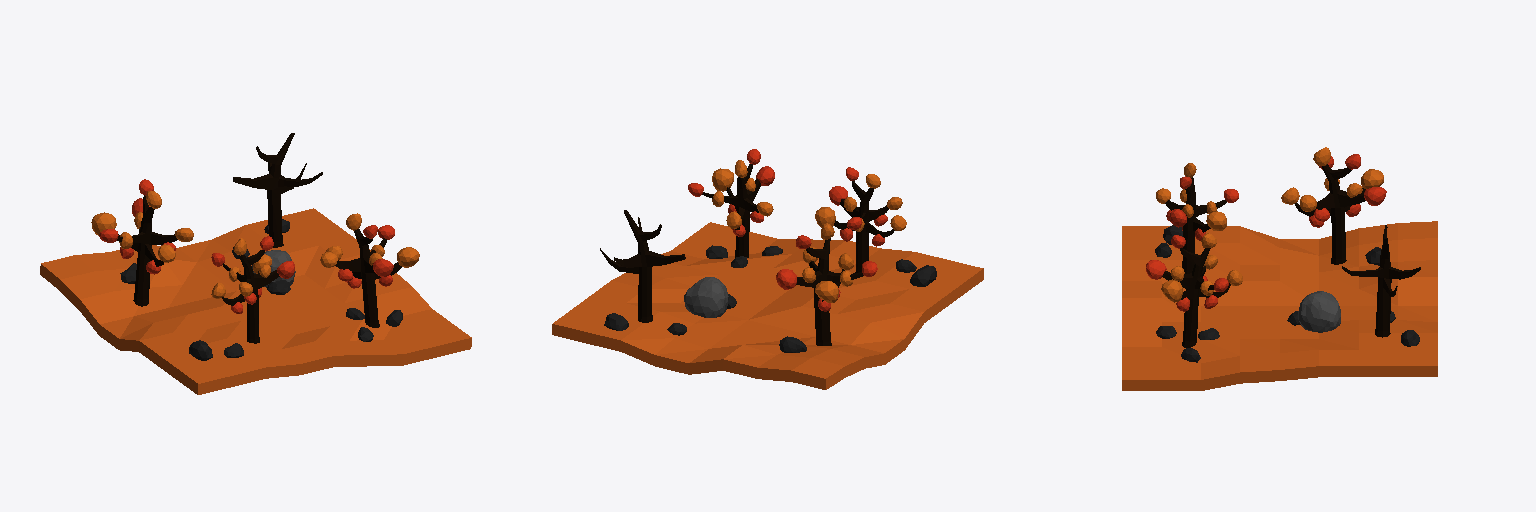
File: trees.obj
3 views of the same model, side by side, from view 1: azimuth 30°, elevation 25°; view 2: azimuth 150°, elevation 25°; view 3: azimuth 270°, elevation 25° (orthographic).
Visible parts, largest first — view 1: Grid_Grid.002, Fall_Tree.002_Cylinder.002, Fall_Tree.001_Cylinder.001, Fall_Tree_Cylinder.007, Cylinder.004_Cylinder.005; view 2: Grid_Grid.002, Fall_Tree.002_Cylinder.002, Fall_Tree.001_Cylinder.001, Fall_Tree_Cylinder.007, Cylinder.004_Cylinder.005, Icosphere_Icosphere.002; view 3: Grid_Grid.002, Fall_Tree.002_Cylinder.002, Fall_Tree.001_Cylinder.001, Fall_Tree_Cylinder.007, Cylinder.004_Cylinder.005, Icosphere_Icosphere.002.
Boxes of the visible parts, <box> form: Grid_Grid.002: <box>40,208,471,394</box>; Fall_Tree.002_Cylinder.002: <box>91,179,193,306</box>; Fall_Tree.001_Cylinder.001: <box>320,213,419,327</box>; Fall_Tree_Cylinder.007: <box>211,236,294,343</box>; Cylinder.004_Cylinder.005: <box>233,133,322,247</box>; Grid_Grid.002: <box>552,222,983,389</box>; Fall_Tree.002_Cylinder.002: <box>776,223,877,345</box>; Fall_Tree.001_Cylinder.001: <box>688,149,774,257</box>; Fall_Tree_Cylinder.007: <box>815,167,906,276</box>; Cylinder.004_Cylinder.005: <box>600,210,685,322</box>; Icosphere_Icosphere.002: <box>684,277,728,317</box>; Grid_Grid.002: <box>1122,221,1437,390</box>; Fall_Tree.002_Cylinder.002: <box>1281,147,1386,264</box>; Fall_Tree.001_Cylinder.001: <box>1146,233,1242,347</box>; Fall_Tree_Cylinder.007: <box>1156,163,1238,273</box>; Cylinder.004_Cylinder.005: <box>1342,225,1420,337</box>; Icosphere_Icosphere.002: <box>1298,291,1340,332</box>.
Bounding box in the file's own units: 31.46 × 15.07 × 31.44.